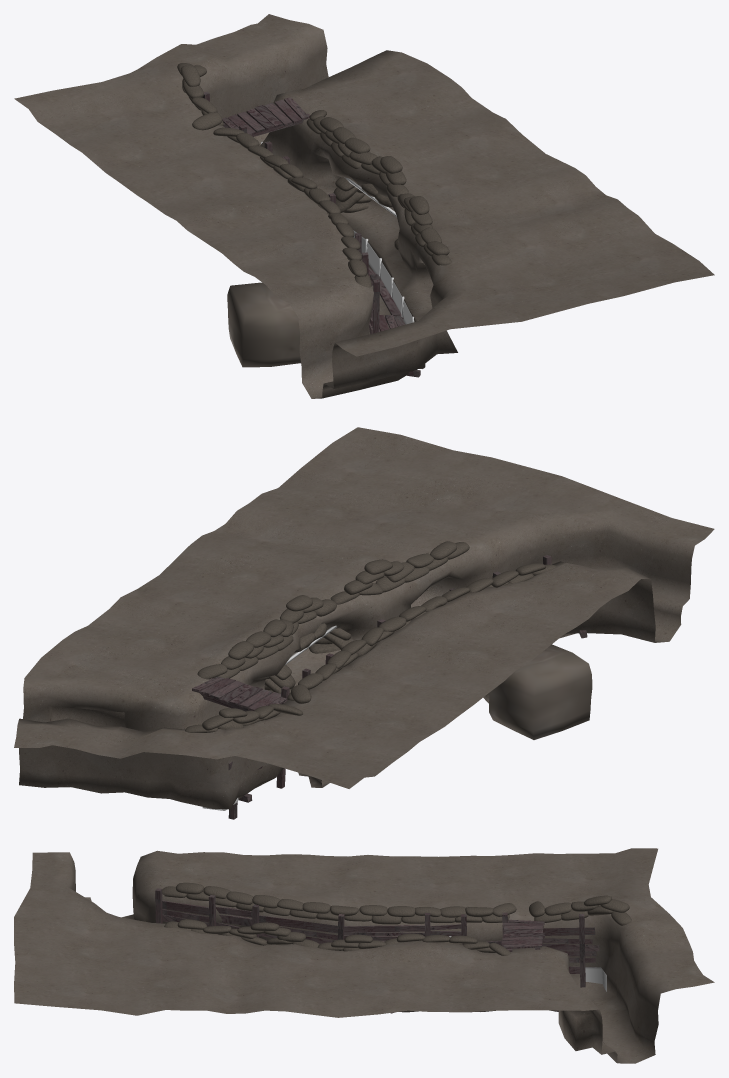
Rendered from env06.dae.
3 views of the same model, one above another, from view 1: azimuth 30°, elevation 25°; view 2: azimuth 150°, elevation 25°; view 3: azimuth 270°, elevation 25° (orthographic). The views are drawn at different scales.
Parts seen in each view (by area): view 1: Plane; view 2: Plane; view 3: Plane, Cube_155, Cube_152, Cube_115, Cube_174, Cube_186, Cube_153.
Boxes of the visible parts, x1,y1,x2,y2 form: Plane: [14, 14, 714, 398]; Plane: [14, 427, 714, 809]; Plane: [14, 848, 714, 1063]; Cube_155: [259, 915, 337, 933]; Cube_152: [344, 925, 424, 932]; Cube_115: [579, 914, 585, 987]; Cube_174: [162, 900, 208, 915]; Cube_186: [543, 927, 595, 935]; Cube_153: [585, 967, 606, 991].
Size of the model in its own units: 35.73 by 66.42 by 11.57.
